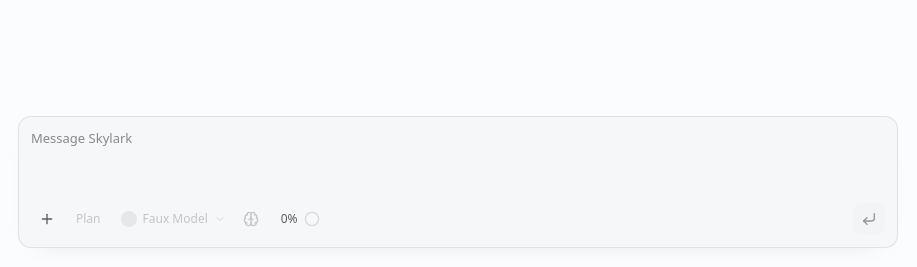
ChatWorkbench › quotes inserted workspace file references when the path has spaces
This screenshot has width=917, height=267.
Type "@my" into the text box labelled "Message Skylark" at {"x": 458, "y": 157}, box top-left (19, 117), bottom-right (897, 197)
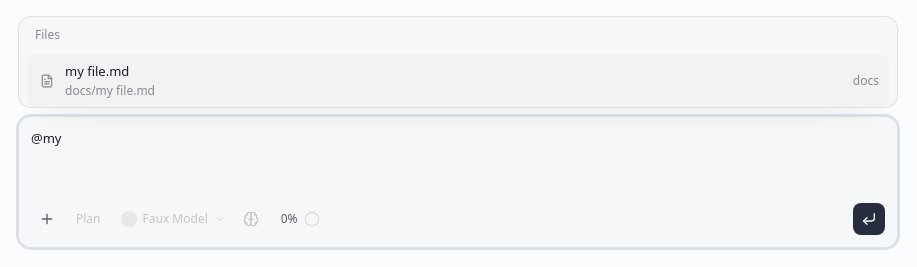
Result: the text "my file.md" is shown at top-left (65, 62), bottom-right (129, 80)
Press Enter
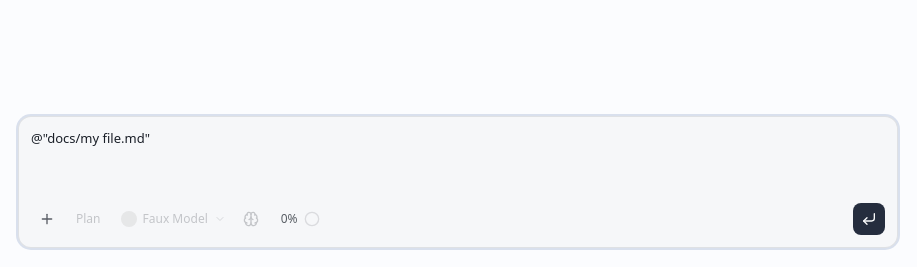
Result: the text box named "Message Skylark" holds "@\"docs/my file.md\"" at top-left (19, 117), bottom-right (897, 197)
